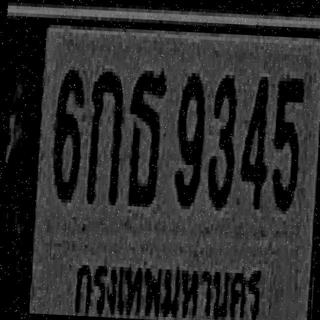A01: (86, 68, 125, 206)
A24: (125, 68, 167, 206)
N03: (206, 72, 238, 210)
N04: (238, 74, 270, 208)
N05: (270, 74, 305, 212)
N06: (51, 66, 84, 200)
N09: (173, 70, 207, 208)
P04: (66, 246, 270, 320)
